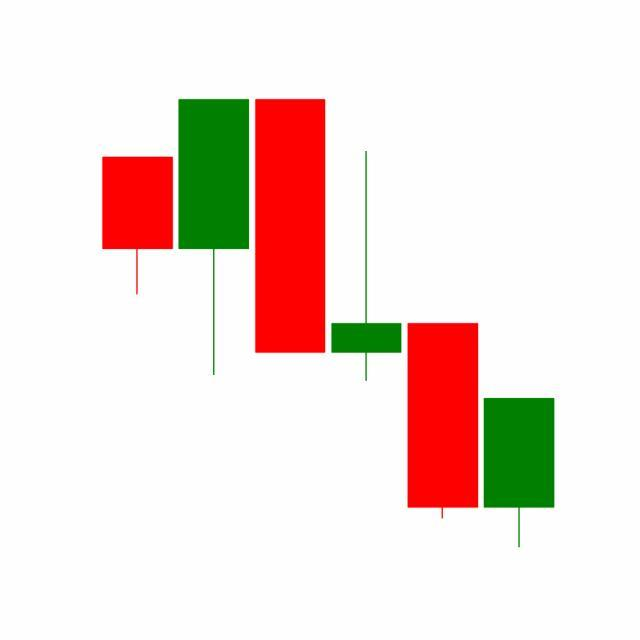Marubozu: (404, 321, 482, 521)
